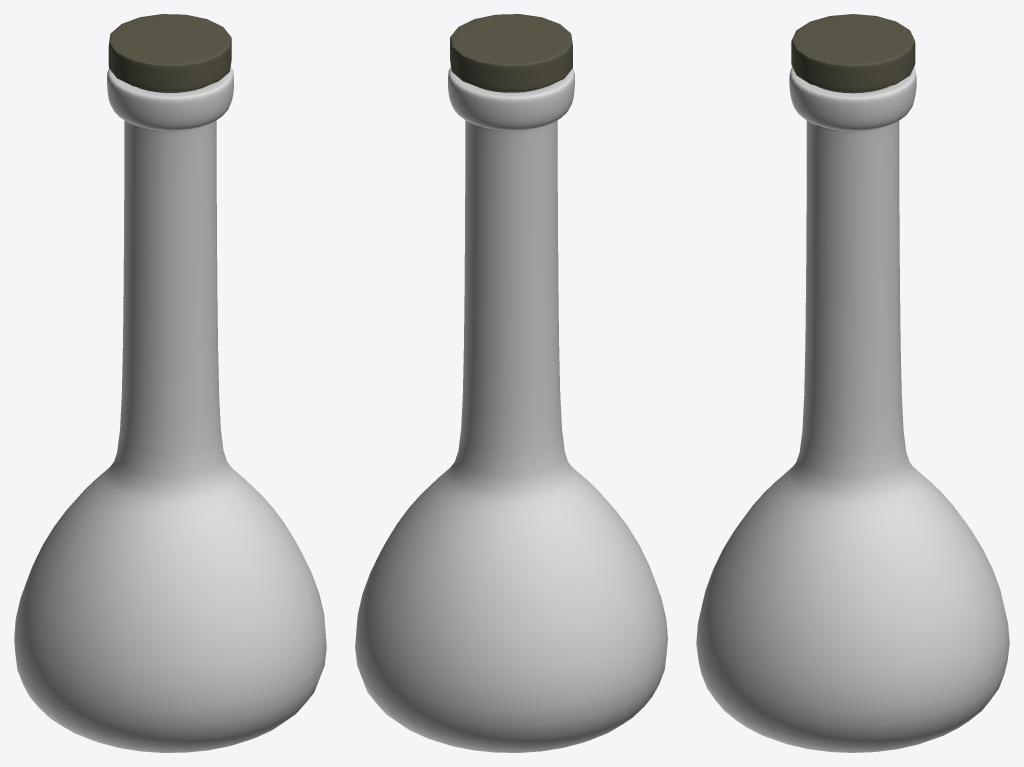
The model's file is Chlorine_Volumetric_Flask_Valentino.fbx.
3 views of the same model, side by side, from view 1: azimuth 30°, elevation 25°; view 2: azimuth 150°, elevation 25°; view 3: azimuth 270°, elevation 25° (orthographic).
Parts seen in each view (by area): view 1: flask_base, flask_cap; view 2: flask_base, flask_cap; view 3: flask_base, flask_cap.
Boxes of the visible parts, x1,y1,x2,y2 form: flask_base: (14, 66, 326, 752); flask_cap: (108, 14, 231, 92); flask_base: (355, 67, 667, 752); flask_cap: (450, 14, 572, 92); flask_base: (696, 67, 1009, 752); flask_cap: (791, 14, 915, 93).
Bounding box in the file's own units: 1.93 × 4.61 × 1.93.
